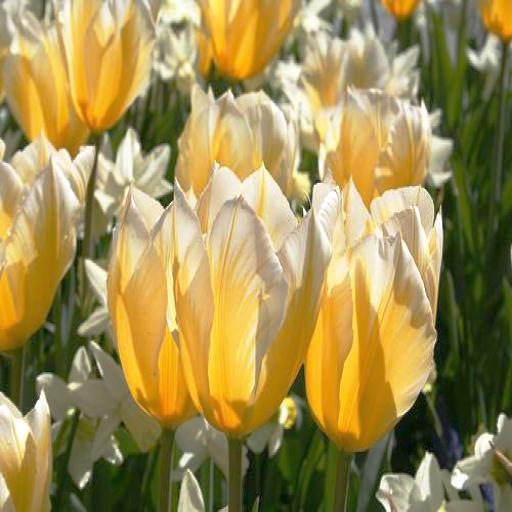tulip: (310, 183, 442, 452), (179, 165, 310, 435), (107, 183, 208, 430)
